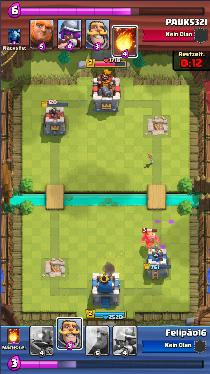enemy_knight: (139, 231, 160, 248)
